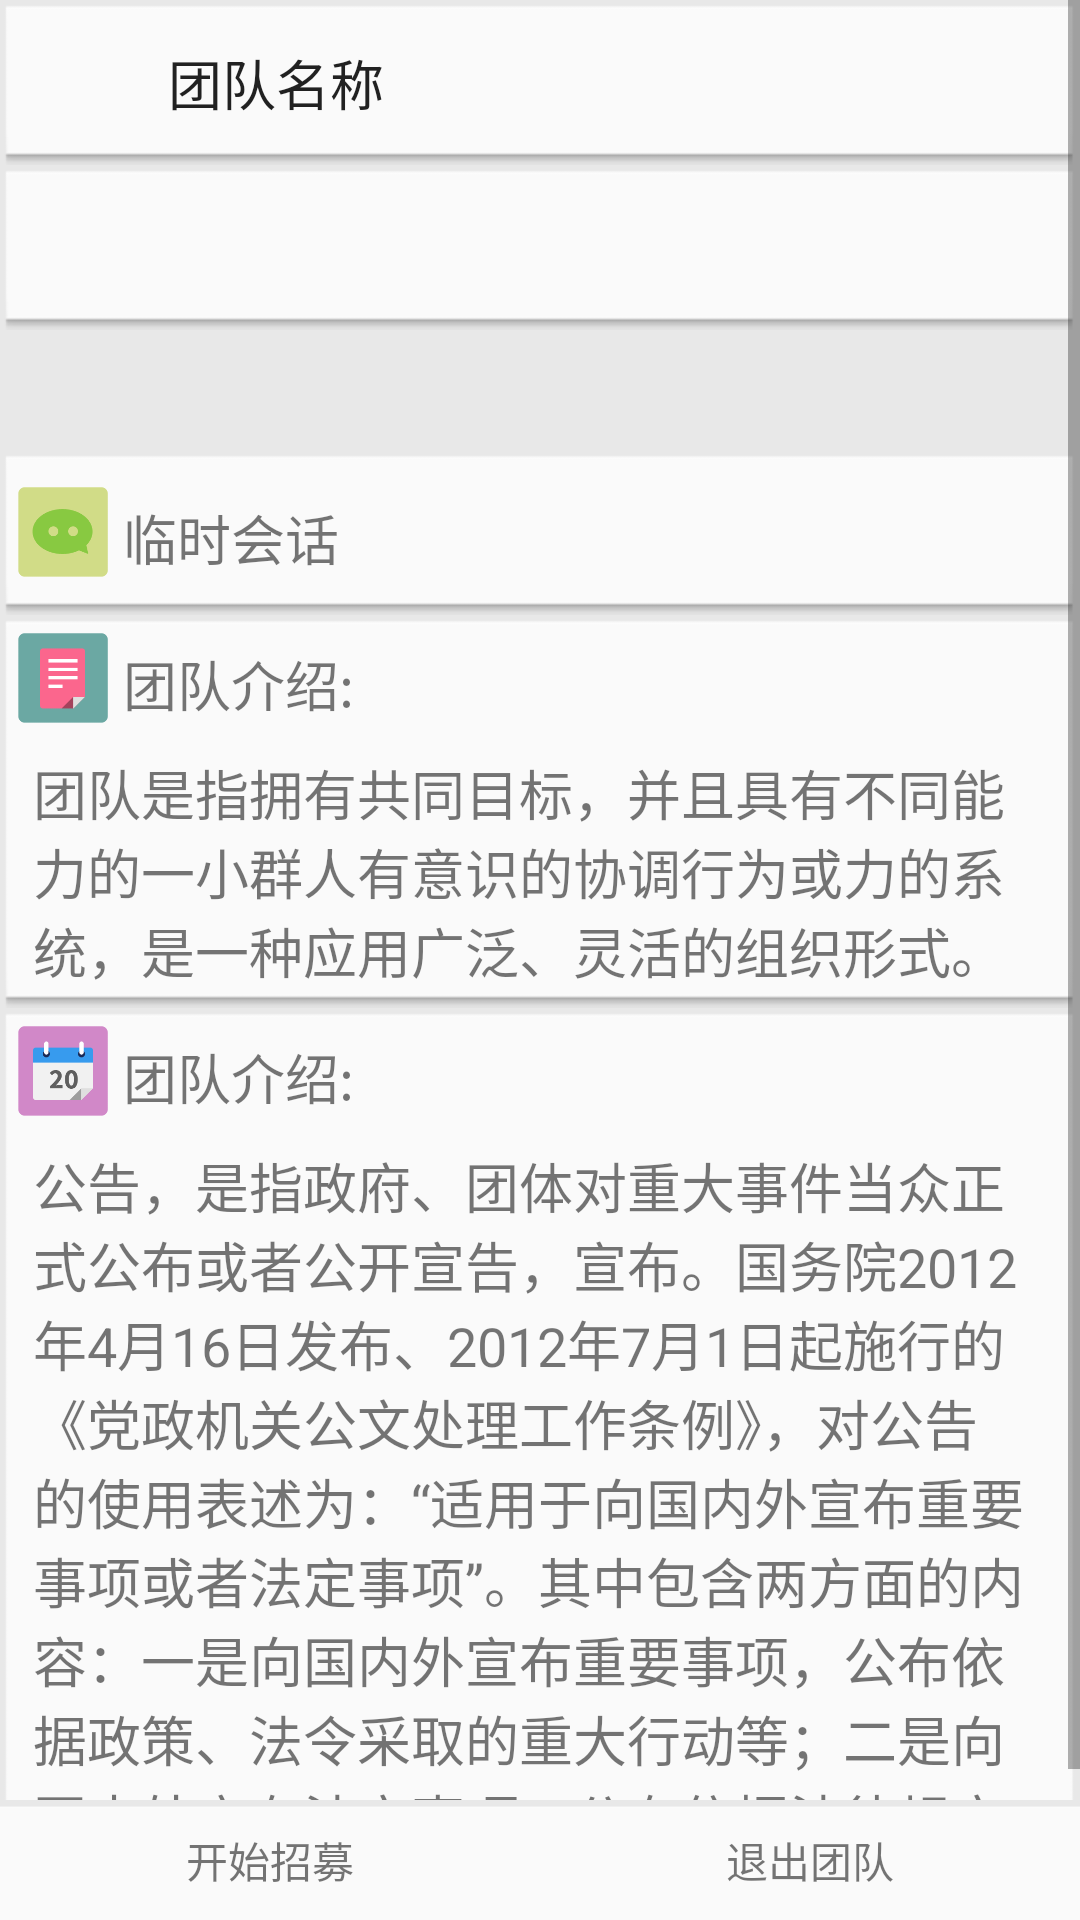

Icons on this 1080px x 1920px Android screen, each with its box as box(x1, y1, x2, y2):
intro: box(18, 633, 108, 723)
